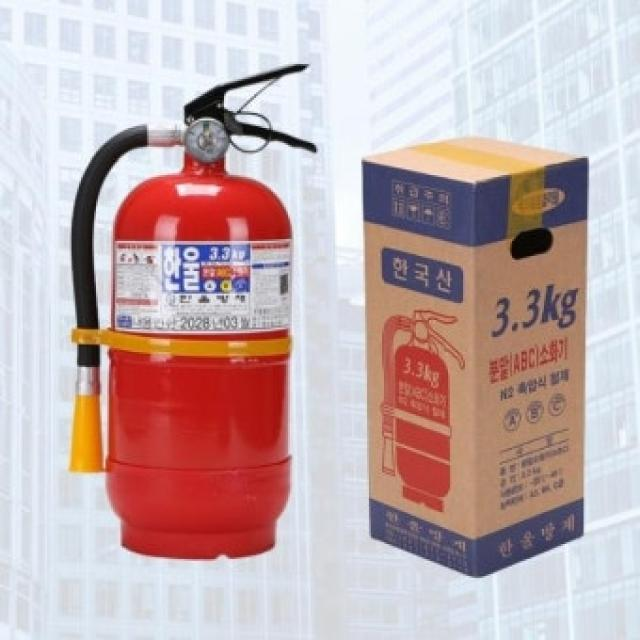pressure gauge: (185, 117, 229, 163)
